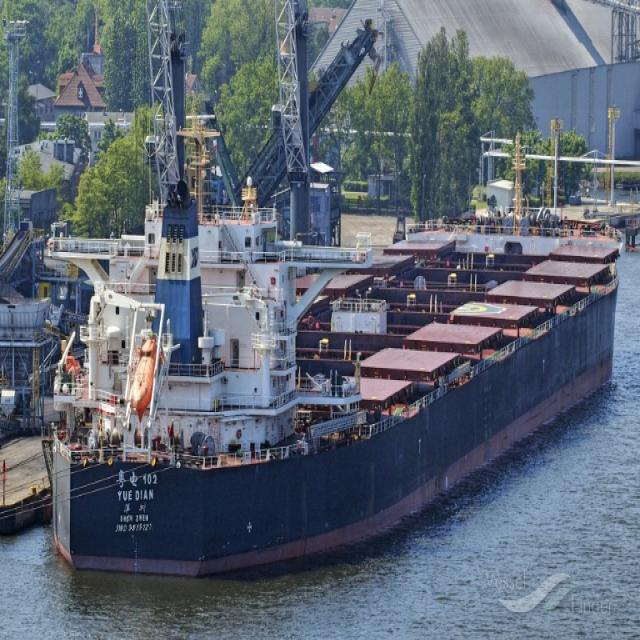OCR: (114, 482, 160, 545)
